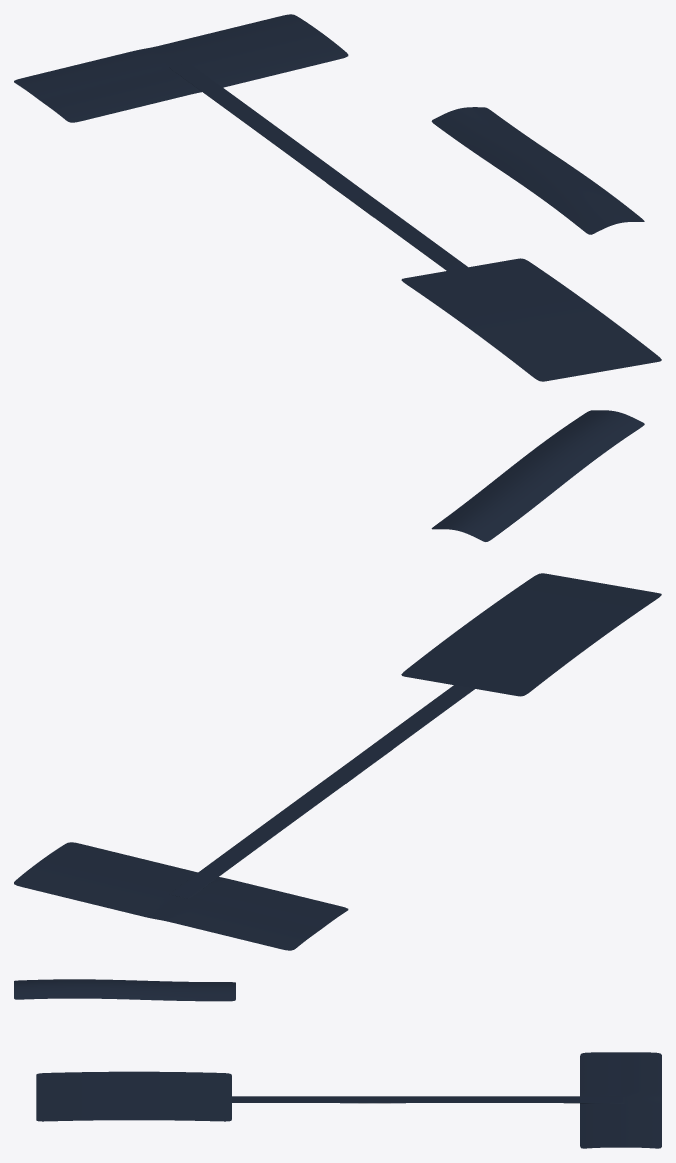
The model's file is aerodynamic_widebody_kit.glb.
3 views of the same model, one above another, from view 1: azimuth 30°, elevation 25°; view 2: azimuth 150°, elevation 25°; view 3: azimuth 270°, elevation 25° (orthographic). The views are drawn at different scales.
Visible parts, largest first — view 1: Aero_Rear_Venturi_Diffuser, Aero_Front_Splitter_Track, Aero_Swan_Neck_Wing_Blade, Aero_Side_Skirt_LH, Aero_Side_Skirt_RH; view 2: Aero_Rear_Venturi_Diffuser, Aero_Front_Splitter_Track, Aero_Swan_Neck_Wing_Blade, Aero_Side_Skirt_LH, Aero_Side_Skirt_RH; view 3: Aero_Rear_Venturi_Diffuser, Aero_Front_Splitter_Track, Aero_Swan_Neck_Wing_Blade, Aero_Side_Skirt_LH, Aero_Side_Skirt_RH.
Part boxes in pixels (bbox=[...]): Aero_Rear_Venturi_Diffuser: bbox=[401, 258, 661, 381]; Aero_Front_Splitter_Track: bbox=[14, 14, 348, 122]; Aero_Swan_Neck_Wing_Blade: bbox=[431, 107, 644, 234]; Aero_Side_Skirt_LH: bbox=[169, 62, 370, 215]; Aero_Side_Skirt_RH: bbox=[328, 184, 467, 270]; Aero_Rear_Venturi_Diffuser: bbox=[401, 573, 661, 696]; Aero_Front_Splitter_Track: bbox=[14, 842, 348, 950]; Aero_Swan_Neck_Wing_Blade: bbox=[431, 410, 644, 541]; Aero_Side_Skirt_LH: bbox=[169, 749, 392, 898]; Aero_Side_Skirt_RH: bbox=[346, 685, 474, 783]; Aero_Rear_Venturi_Diffuser: bbox=[36, 1071, 231, 1121]; Aero_Front_Splitter_Track: bbox=[580, 1052, 661, 1148]; Aero_Swan_Neck_Wing_Blade: bbox=[14, 979, 235, 1001]; Aero_Side_Skirt_LH: bbox=[340, 1096, 624, 1103]; Aero_Side_Skirt_RH: bbox=[232, 1096, 405, 1103].
Size of the model in its own units: 1.98 by 1.12 by 5.7.
